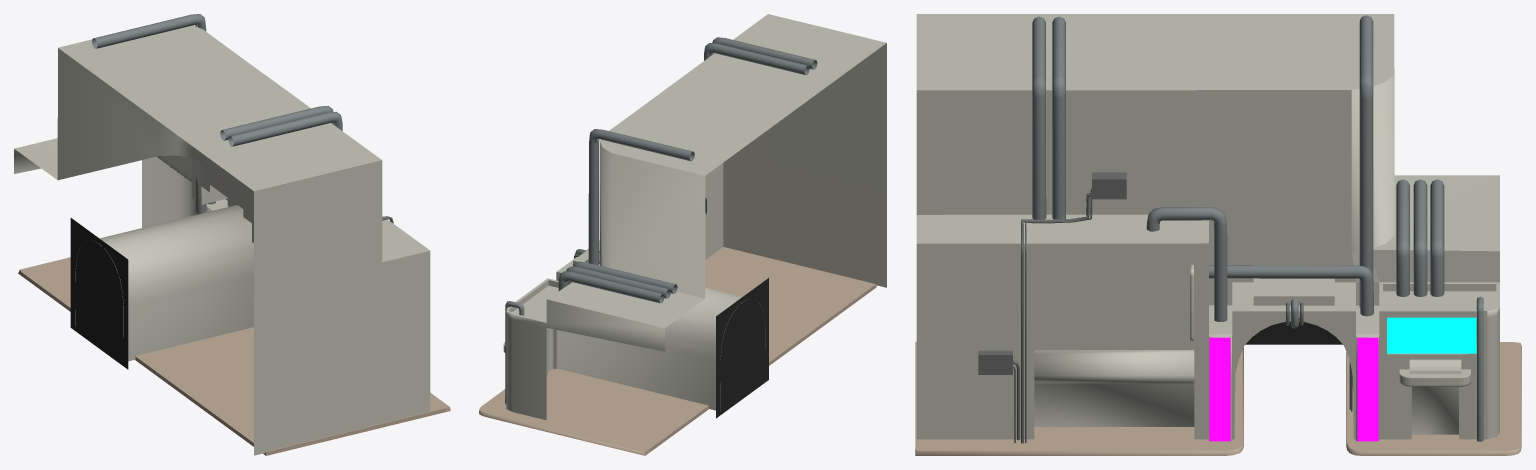
File: tunnel-building.fbx
3 renders of one model, left to right at view 1: azimuth 30°, elevation 25°; view 2: azimuth 150°, elevation 25°; view 3: azimuth 270°, elevation 25°, orthographic. The views are drawn at different scales.
Visible parts, largest first — view 1: Cube.003, Cube, Plane.001, Cube.001, NurbsCurve.011, NurbsCurve.009, NurbsCurve.008; view 2: Cube.003, Cube.001, Cube, Plane.001, NurbsCurve.011, NurbsCurve.002, NurbsCurve.008, NurbsCurve.009, NurbsCurve, NurbsCurve.001; view 3: Cube.003, Cube, Cube.001, NurbsCurve.011, Plane.007, NurbsCurve.009, NurbsCurve.008, NurbsCurve.003, NurbsCurve.004, Plane.005, Plane.006, NurbsCurve.002 (+8 smaller).
Boxes of the visible parts, left/top/right/bottom form: Cube.003: left=14, top=25, right=430, bottom=455; Cube: left=135, top=327, right=450, bottom=455; Plane.001: left=70, top=218, right=128, bottom=369; Cube.001: left=18, top=257, right=70, bottom=311; NurbsCurve.011: left=92, top=14, right=206, bottom=212; NurbsCurve.009: left=228, top=111, right=342, bottom=146; NurbsCurve.008: left=220, top=105, right=333, bottom=140; Cube.003: left=503, top=14, right=886, bottom=420; Cube.001: left=479, top=368, right=708, bottom=455; Cube: left=705, top=247, right=876, bottom=365; Plane.001: left=716, top=278, right=768, bottom=418; NurbsCurve.011: left=588, top=129, right=694, bottom=265; NurbsCurve.002: left=558, top=271, right=664, bottom=303; NurbsCurve.008: left=704, top=43, right=809, bottom=75; NurbsCurve.009: left=712, top=37, right=817, bottom=69; NurbsCurve: left=573, top=261, right=677, bottom=293; NurbsCurve.001: left=566, top=266, right=670, bottom=298; Cube.003: left=916, top=14, right=1499, bottom=441; Cube: left=915, top=341, right=1243, bottom=455; Cube.001: left=1346, top=342, right=1521, bottom=455; NurbsCurve.011: left=1359, top=15, right=1373, bottom=307; Plane.007: left=1387, top=317, right=1476, bottom=353; NurbsCurve.009: left=1032, top=16, right=1046, bottom=219; NurbsCurve.008: left=1052, top=16, right=1065, bottom=219; NurbsCurve.003: left=1209, top=265, right=1373, bottom=316; NurbsCurve.004: left=1146, top=207, right=1227, bottom=321; Plane.005: left=1357, top=337, right=1378, bottom=441; Plane.006: left=1209, top=337, right=1230, bottom=441; NurbsCurve.002: left=1430, top=179, right=1444, bottom=296.
Bounding box in the file's own units: 800 × 1099 × 1754.
